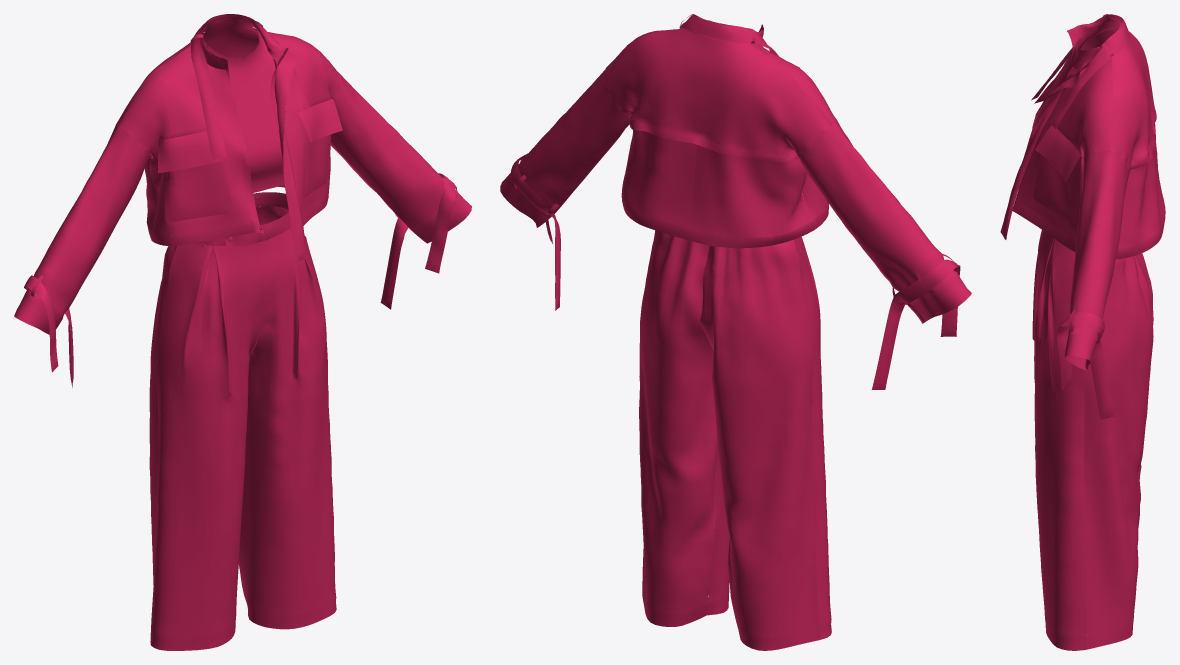
The model's file is 03_STYLEMATI_F.fbx.
3 views of the same model, side by side, from view 1: azimuth 30°, elevation 25°; view 2: azimuth 150°, elevation 25°; view 3: azimuth 270°, elevation 25° (orthographic). The views are drawn at different scales.
Visible parts, largest first — view 1: 03_STYLEMATI_F; view 2: 03_STYLEMATI_F; view 3: 03_STYLEMATI_F.
Boxes of the visible parts, x1,y1,x2,y2 form: 03_STYLEMATI_F: (14,14,471,650); 03_STYLEMATI_F: (500,14,971,650); 03_STYLEMATI_F: (1000,14,1165,650).
Bounding box in the file's own units: 1.05 × 1.32 × 0.3348.
